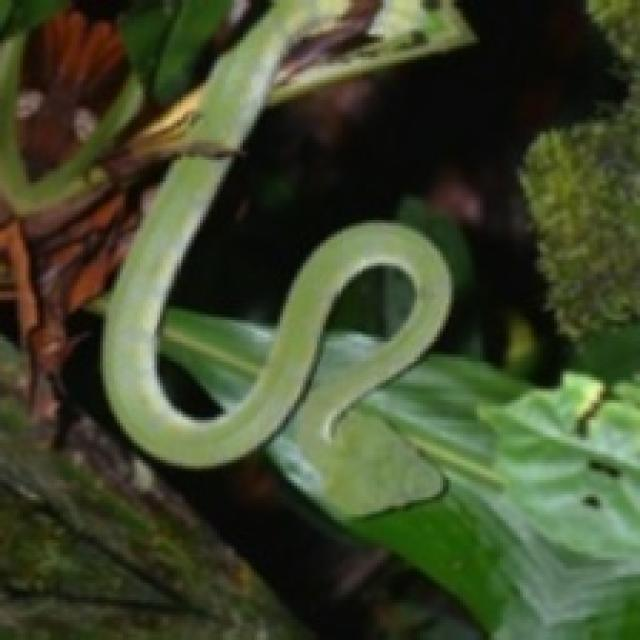north ph temple pitviper: (102, 155, 451, 518), (188, 2, 319, 152)
